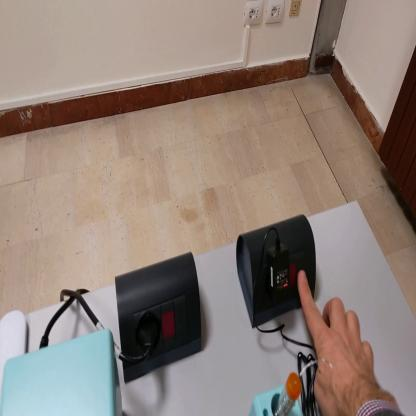hand: (296, 268, 381, 415)
socket: (111, 250, 202, 384), (237, 214, 316, 329)
welder base: (254, 368, 304, 415)
welder station: (2, 329, 123, 416)
